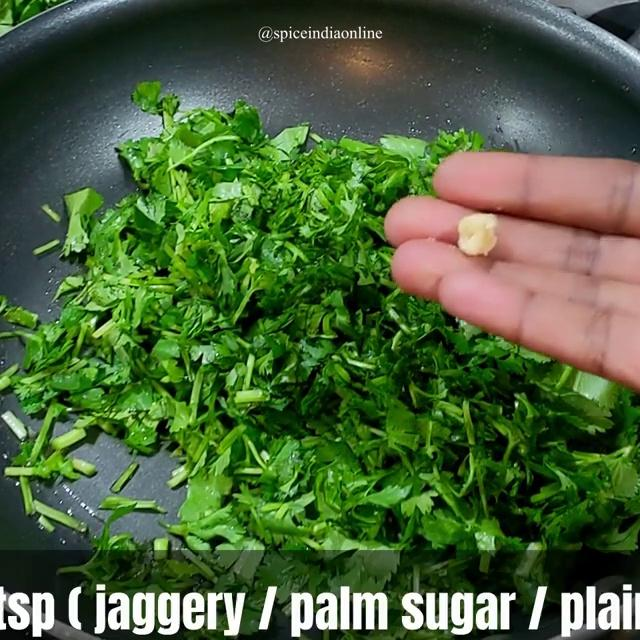cilantro: (77, 116, 372, 522)
